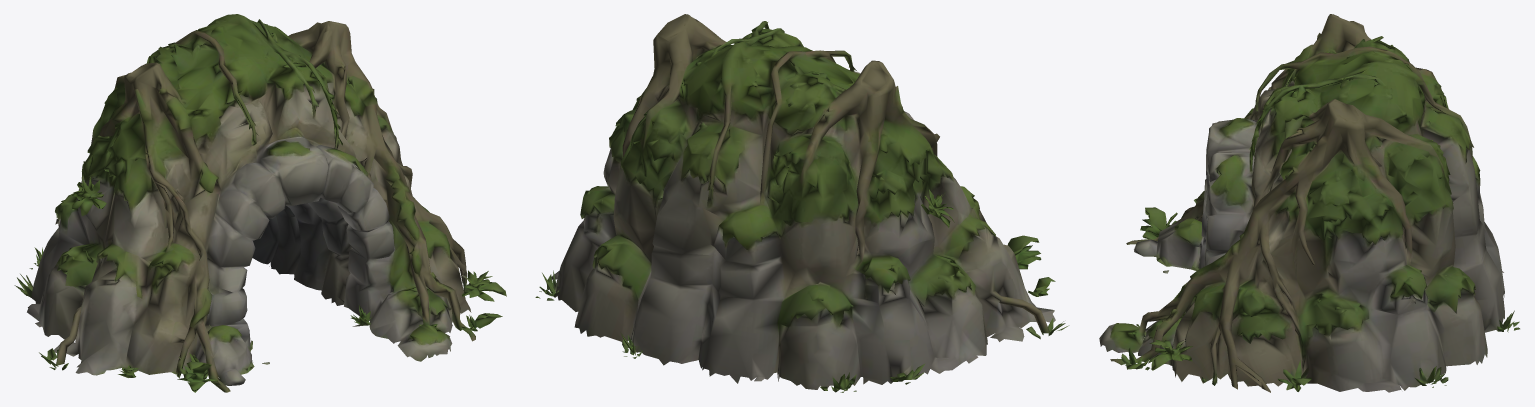
The model's file is caverna.glb.
The picture shows the model from 3 angles, left to right: view 1: azimuth 30°, elevation 25°; view 2: azimuth 150°, elevation 25°; view 3: azimuth 270°, elevation 25°; orthographic projection. The views are drawn at different scales.
Parts seen in each view (by area): view 1: boca_caverna; view 2: boca_caverna; view 3: boca_caverna.
Boxes of the visible parts, left/top/right/bottom form: boca_caverna: left=14, top=14, right=506, bottom=392; boca_caverna: left=535, top=14, right=1069, bottom=392; boca_caverna: left=1099, top=14, right=1519, bottom=392.
Size of the model in its own units: 0.9849 by 0.566 by 0.8378.
1 material, 1 textured.
